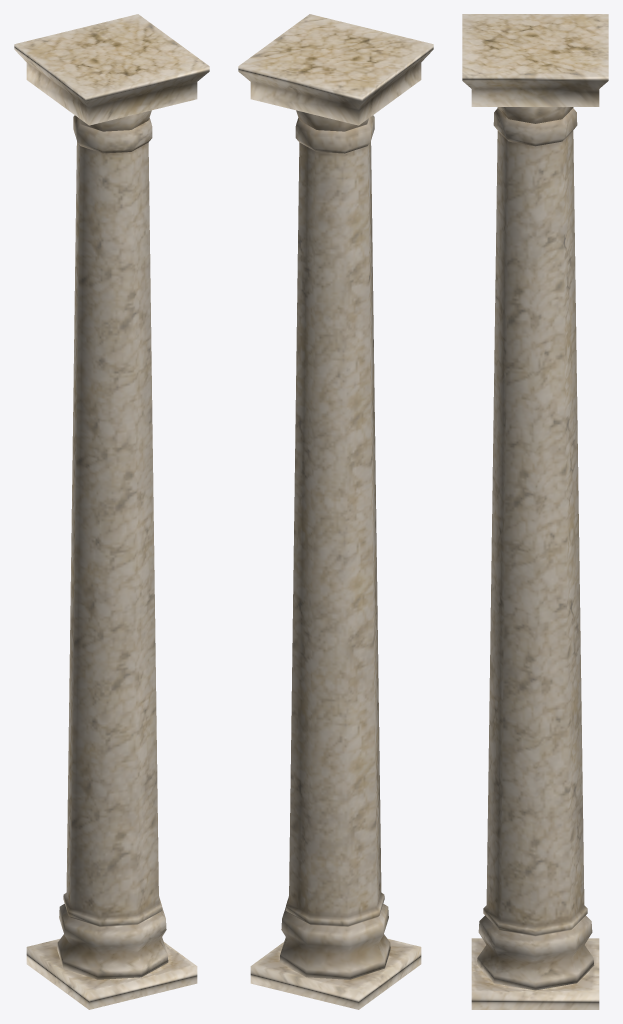
File: SM_Tus_Colonne_LP10.fbx
3 renders of one model, left to right at view 1: azimuth 30°, elevation 25°; view 2: azimuth 150°, elevation 25°; view 3: azimuth 270°, elevation 25°, orthographic. The views are drawn at different scales.
Parts seen in each view (by area): view 1: SM_Tus_Colonne_LP10; view 2: SM_Tus_Colonne_LP10; view 3: SM_Tus_Colonne_LP10.
Boxes of the visible parts, left/top/right/bottom form: SM_Tus_Colonne_LP10: left=14, top=14, right=209, bottom=1009; SM_Tus_Colonne_LP10: left=238, top=14, right=433, bottom=1009; SM_Tus_Colonne_LP10: left=462, top=14, right=608, bottom=1009.
Bounding box in the file's own units: 0.2983 × 2.11 × 0.2983.
Materials: 1 (1 with a texture image).
